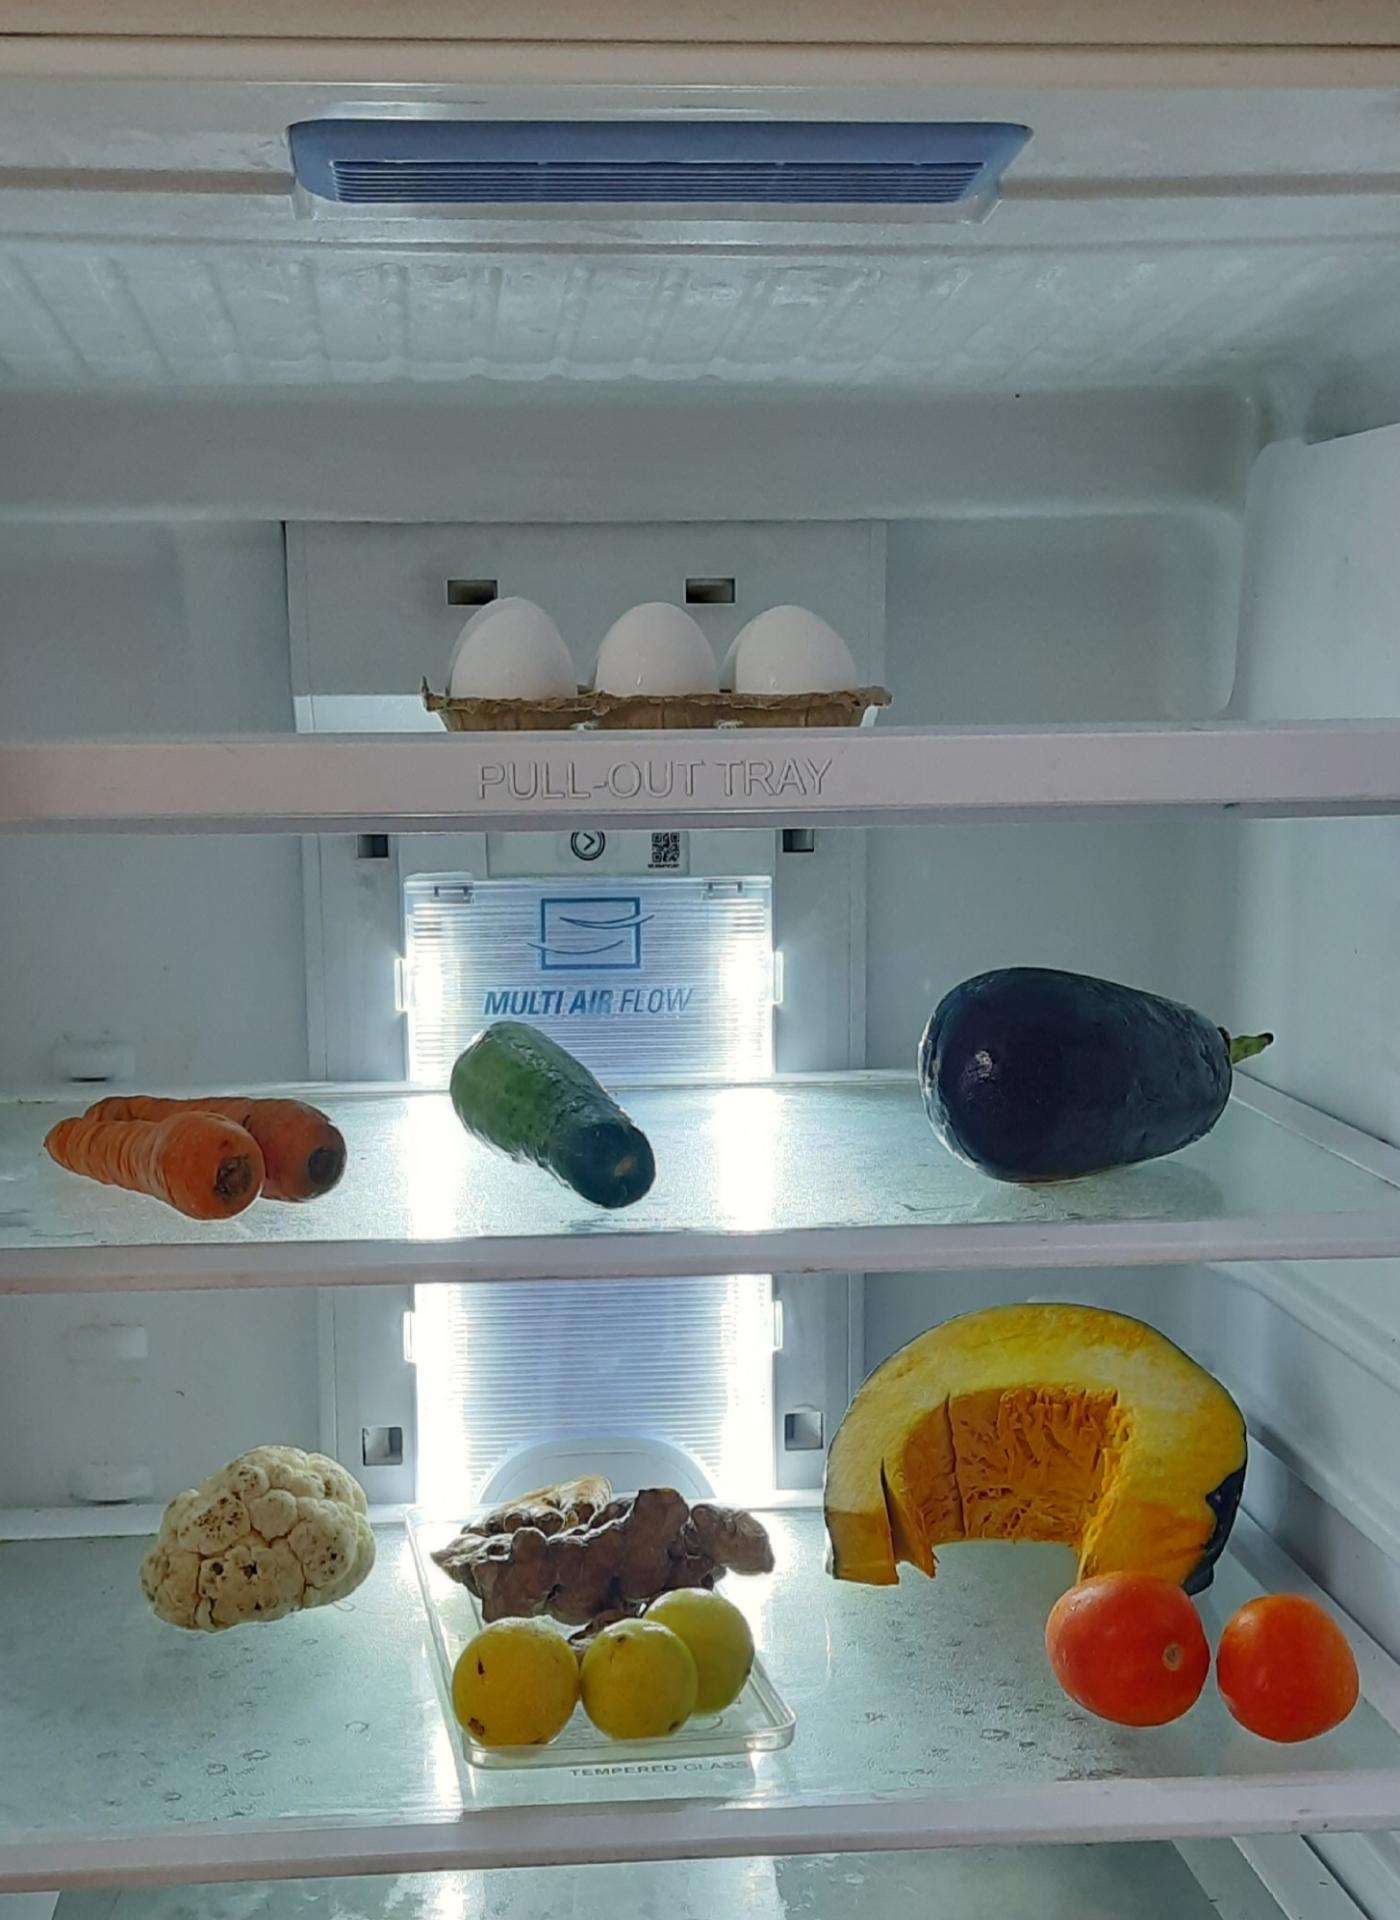brinjal: (930, 963, 1294, 1187)
carrots: (42, 1091, 350, 1224)
cauliflower: (137, 1449, 377, 1637)
cucumber: (449, 1021, 668, 1212)
egg: (440, 586, 881, 733)
ginger: (441, 1474, 775, 1620)
lemon: (456, 1595, 757, 1744)
pumpkin: (820, 1307, 1261, 1582)
tomato: (1054, 1576, 1215, 1740), (1212, 1595, 1363, 1747)
